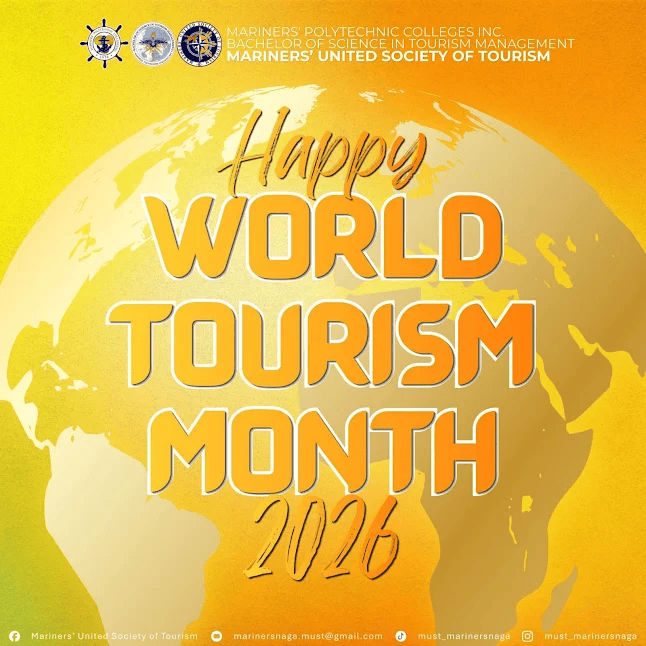embellishment: (8, 627, 24, 645), (208, 627, 225, 643), (519, 628, 535, 644), (394, 629, 409, 643)
logo: (77, 15, 130, 72), (177, 17, 223, 72), (131, 22, 175, 68)
text: (98, 97, 544, 597), (224, 22, 582, 65), (29, 629, 202, 643), (231, 629, 386, 641), (541, 629, 641, 642), (415, 629, 513, 642)
